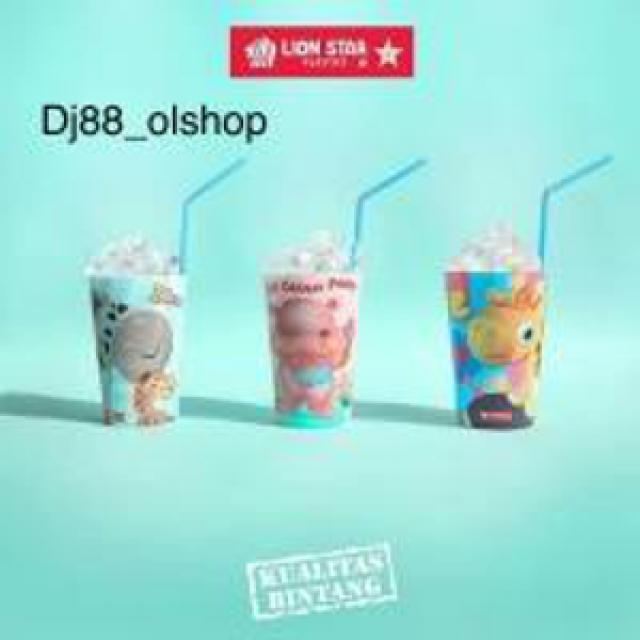plastic cup: (252, 248, 373, 435), (79, 252, 198, 435), (435, 252, 548, 435)
